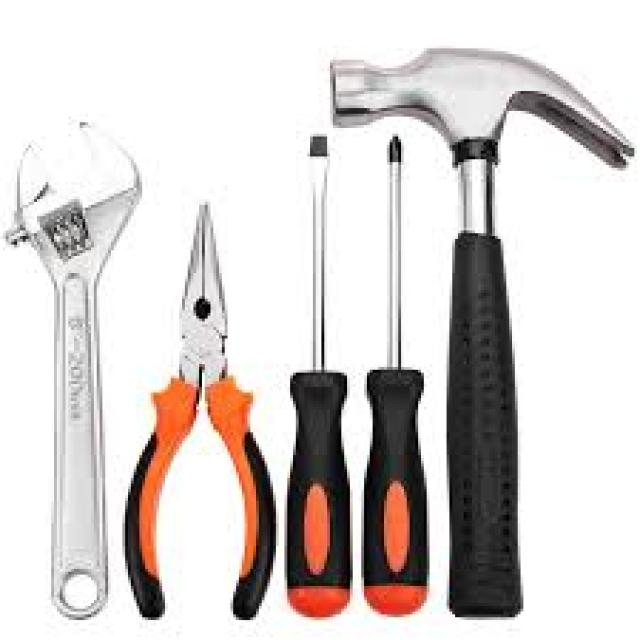Screwdriver: (286, 135, 350, 617), (364, 368, 428, 614), (388, 136, 401, 367)
